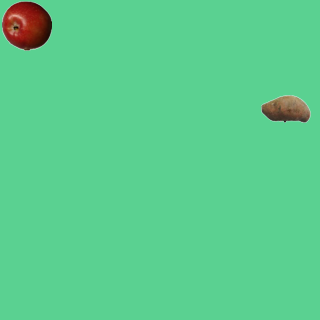Apple Braeburn: (1, 0, 51, 50)
Potato Sweet: (260, 83, 310, 133)
